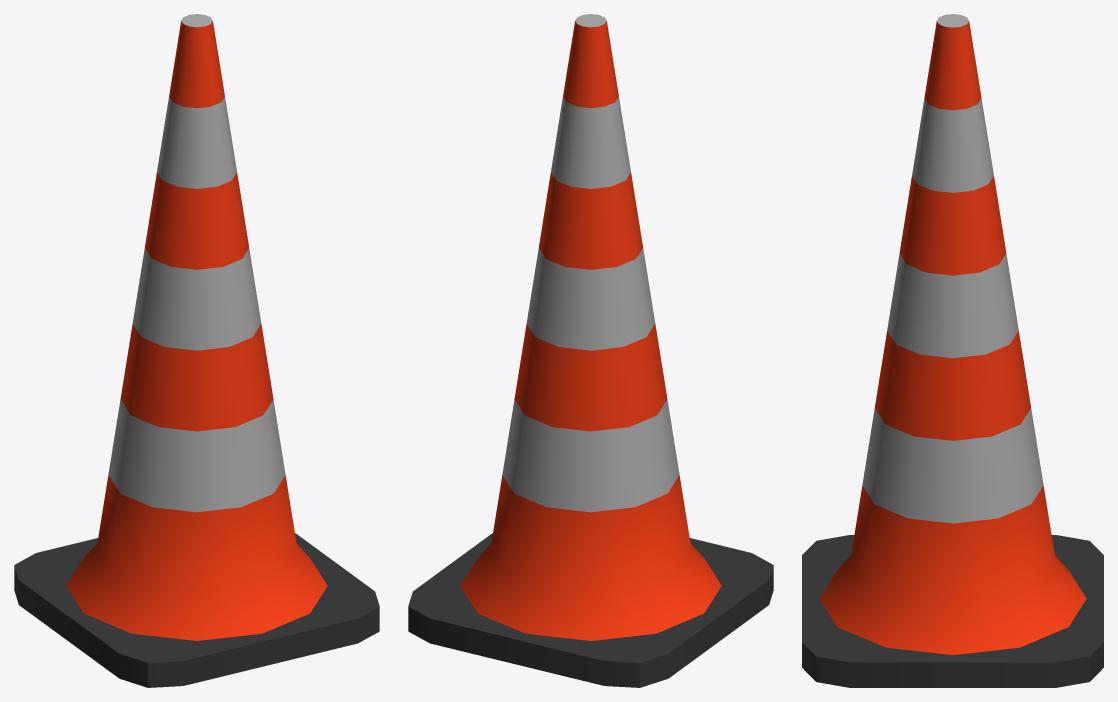
3 views of the same model, side by side, from view 1: azimuth 30°, elevation 25°; view 2: azimuth 150°, elevation 25°; view 3: azimuth 270°, elevation 25° (orthographic). The views are drawn at different scales.
Visible parts, largest first — view 1: cone_LOD0.001; view 2: cone_LOD0.001; view 3: cone_LOD0.001.
Boxes of the visible parts, left/top/right/bottom form: cone_LOD0.001: left=14, top=14, right=379, bottom=687; cone_LOD0.001: left=408, top=14, right=773, bottom=687; cone_LOD0.001: left=802, top=14, right=1103, bottom=687.
Size of the model in its own units: 0.34 by 0.75 by 0.34.
